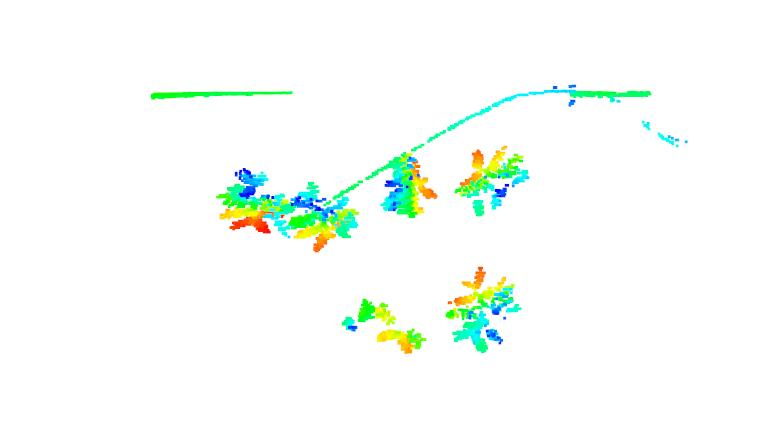chickpea: (442, 266, 525, 353), (216, 166, 291, 243), (339, 296, 429, 357), (456, 143, 529, 217), (291, 177, 360, 252), (377, 153, 439, 222)
